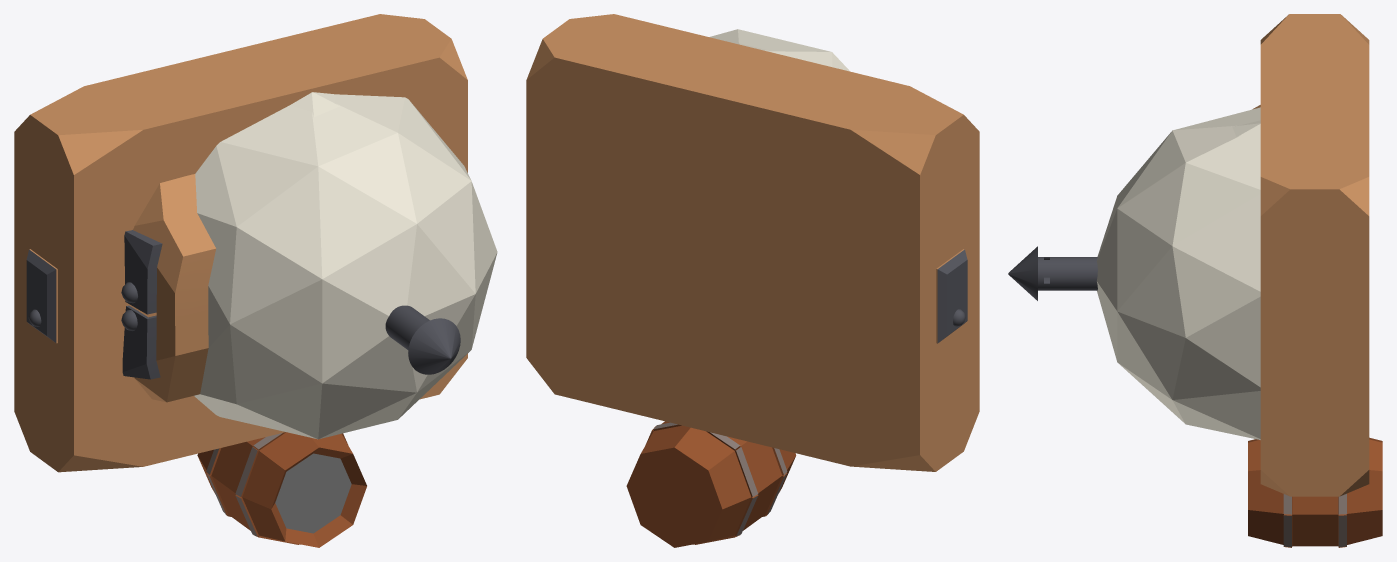
File: Bakery.fbx
3 renders of one model, left to right at view 1: azimuth 30°, elevation 25°; view 2: azimuth 150°, elevation 25°; view 3: azimuth 270°, elevation 25°, orthographic. The views are drawn at different scales.
Parts seen in each view (by area): view 1: Icosphere, Cylinder, Icosphere.002; view 2: Icosphere, Cylinder; view 3: Icosphere, Cylinder, Icosphere.002.
Boxes of the visible parts, left/top/right/bottom form: Icosphere: left=14, top=14, right=497, bottom=472; Cylinder: left=197, top=432, right=366, bottom=547; Icosphere.002: left=385, top=305, right=460, bottom=374; Icosphere: left=526, top=14, right=979, bottom=471; Cylinder: left=626, top=421, right=796, bottom=547; Icosphere: left=1096, top=14, right=1369, bottom=496; Cylinder: left=1248, top=437, right=1382, bottom=547; Icosphere.002: left=1008, top=246, right=1097, bottom=300.
Size of the model in its own units: 259 by 282 by 225.
